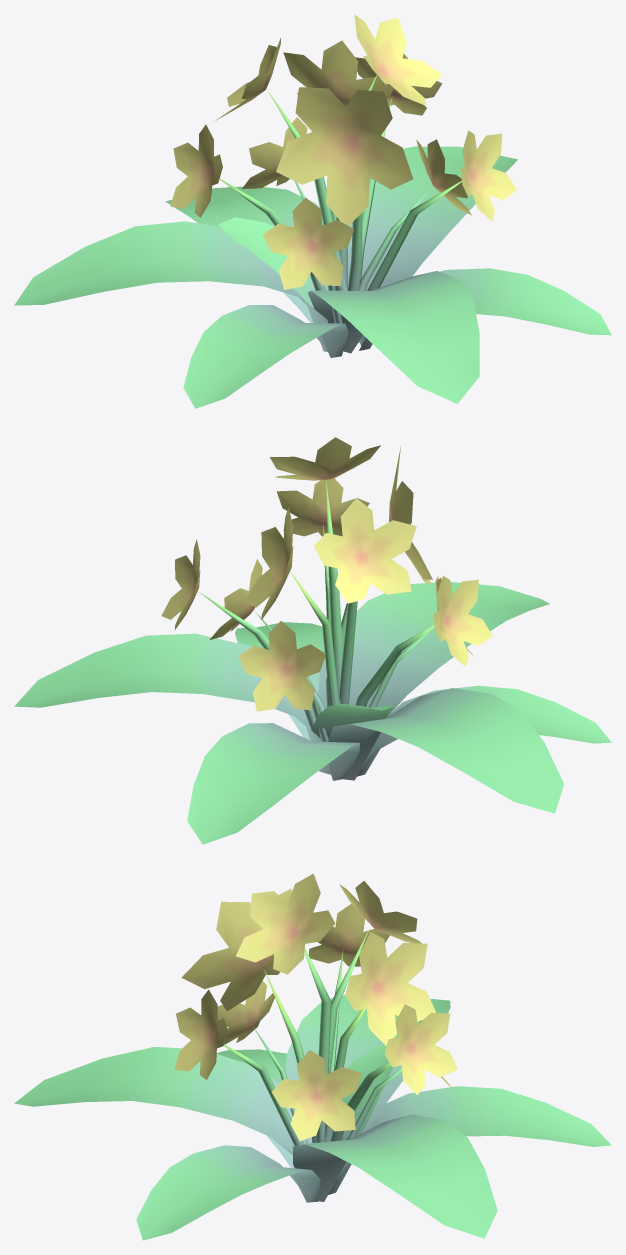
Rendered from Flower.004_Base_Material_0.fbx.
The picture shows the model from 3 angles, top to bottom: view 1: azimuth 30°, elevation 25°; view 2: azimuth 150°, elevation 25°; view 3: azimuth 270°, elevation 25°; orthographic projection. The views are drawn at different scales.
Visible parts, largest first — view 1: Flower.004_Base_Material_0_export; view 2: Flower.004_Base_Material_0_export; view 3: Flower.004_Base_Material_0_export.
Boxes of the visible parts, box(x1,y1,x2,y2) form: Flower.004_Base_Material_0_export: box(14, 14, 611, 408); Flower.004_Base_Material_0_export: box(14, 437, 611, 844); Flower.004_Base_Material_0_export: box(14, 873, 611, 1240).
Size of the model in its own units: 4.09 by 2.55 by 4.25.
